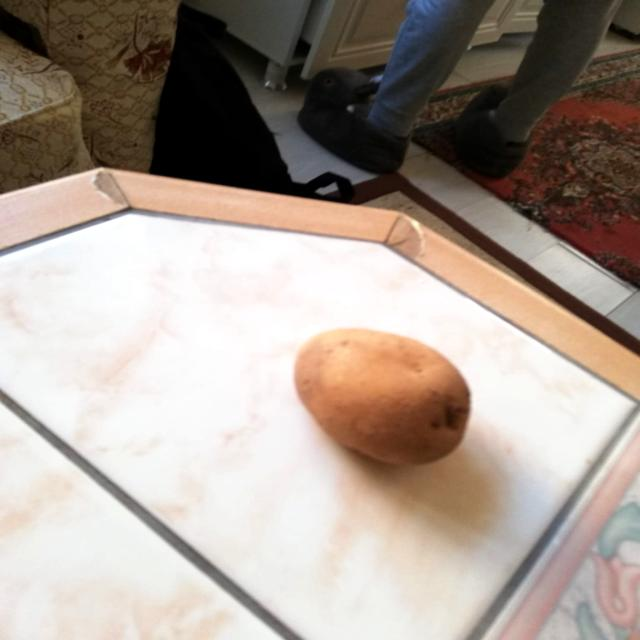potato: (290, 315, 479, 473)
